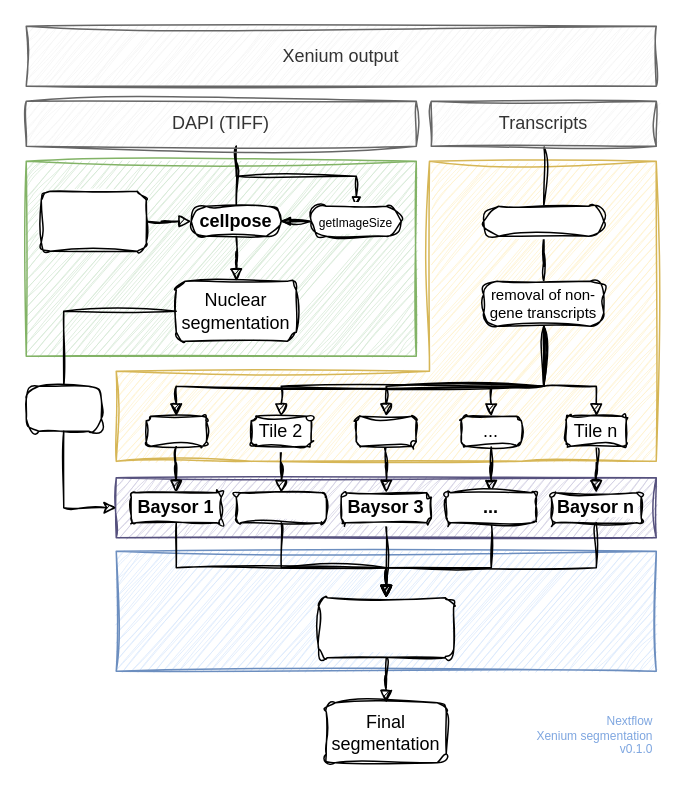
Image size: 683x789. Some labels were removed from this diagram. Each missing label, with the centre of its shape:
"Baysor 2" belongs at point 280,507.
"Merge outputs (based on IOU)" belongs at point 385,627.
"pretrained cellpose DAPI model" belongs at point 93,220.
"prior segmentation" belongs at point 63,408.
"QV filtering" belongs at point 543,220.
"Tile 1" belongs at point 175,430.
"Tile 3" belongs at point 385,430.
